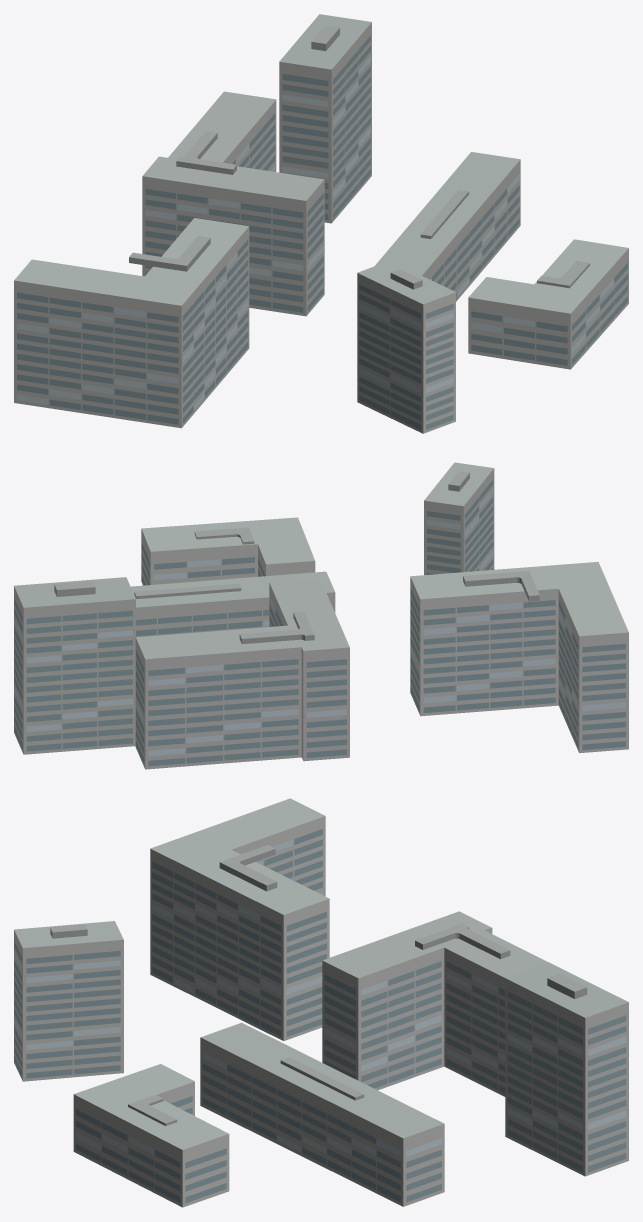
The model's file is apt-a13509014.glb.
3 renders of one model, top to bottom at view 1: azimuth 30°, elevation 25°; view 2: azimuth 150°, elevation 25°; view 3: azimuth 270°, elevation 25°, orthographic. The views are drawn at different scales.
Visible parts, largest first — view 1: apt-a13509014; view 2: apt-a13509014; view 3: apt-a13509014.
Part boxes in pixels (x1,y1,x2,y2): apt-a13509014: (14,14,628,433); apt-a13509014: (14,462,628,769); apt-a13509014: (14,798,628,1207).
Size of the model in its own units: 161 by 44 by 148.
